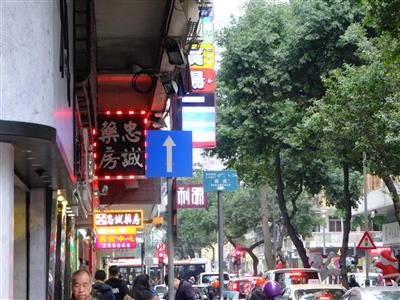oneway: (140, 125, 199, 181)
